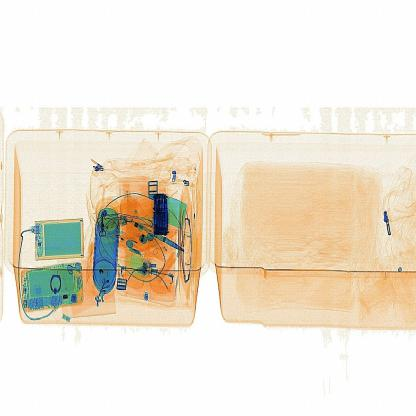scissors: (148, 188, 174, 241)
